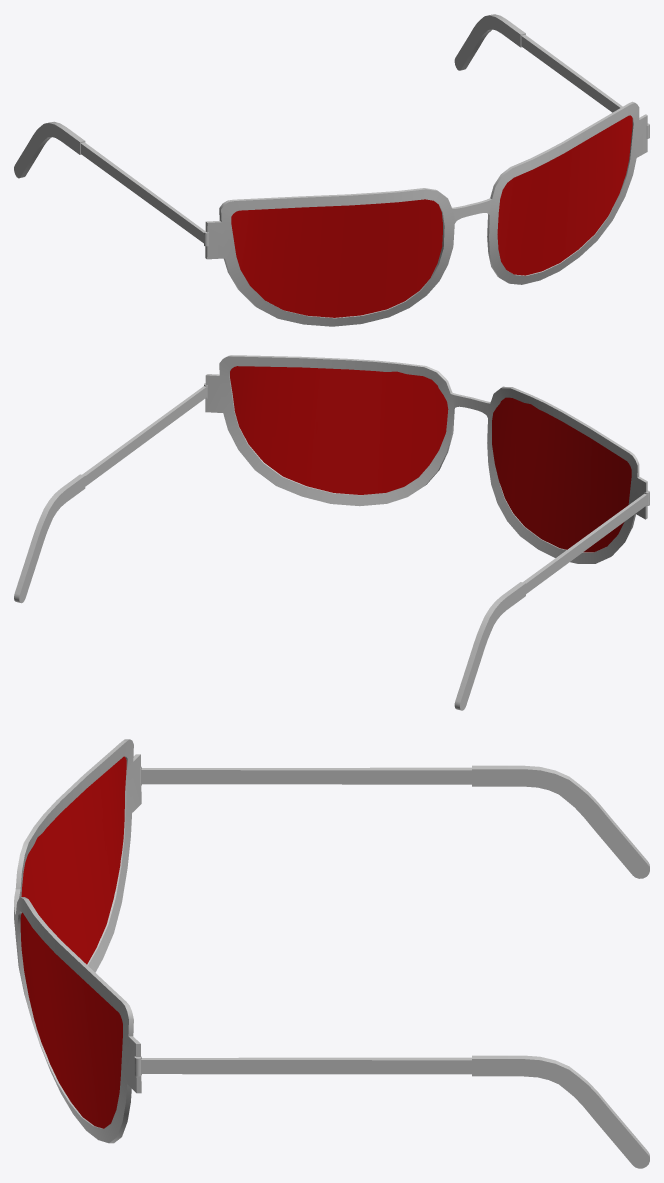
File: glasses11.001.obj
3 renders of one model, top to bottom at view 1: azimuth 30°, elevation 25°; view 2: azimuth 150°, elevation 25°; view 3: azimuth 270°, elevation 25°, orthographic. The views are drawn at different scales.
Parts seen in each view (by area): view 1: glasses11.001_glasses11.001_Material.003, glasses11.001_glasses11.001_black; view 2: glasses11.001_glasses11.001_Material.003, glasses11.001_glasses11.001_black; view 3: glasses11.001_glasses11.001_black, glasses11.001_glasses11.001_Material.003.
Boxes of the visible parts, x1,y1,x2,y2 form: glasses11.001_glasses11.001_Material.003: (231,115,632,317); glasses11.001_glasses11.001_black: (14,14,649,326); glasses11.001_glasses11.001_Material.003: (230,366,631,552); glasses11.001_glasses11.001_black: (14,355,649,710); glasses11.001_glasses11.001_black: (14,739,649,1168); glasses11.001_glasses11.001_Material.003: (20,756,126,1128).
Size of the model in its own units: 2.02 by 0.594 by 1.85.
